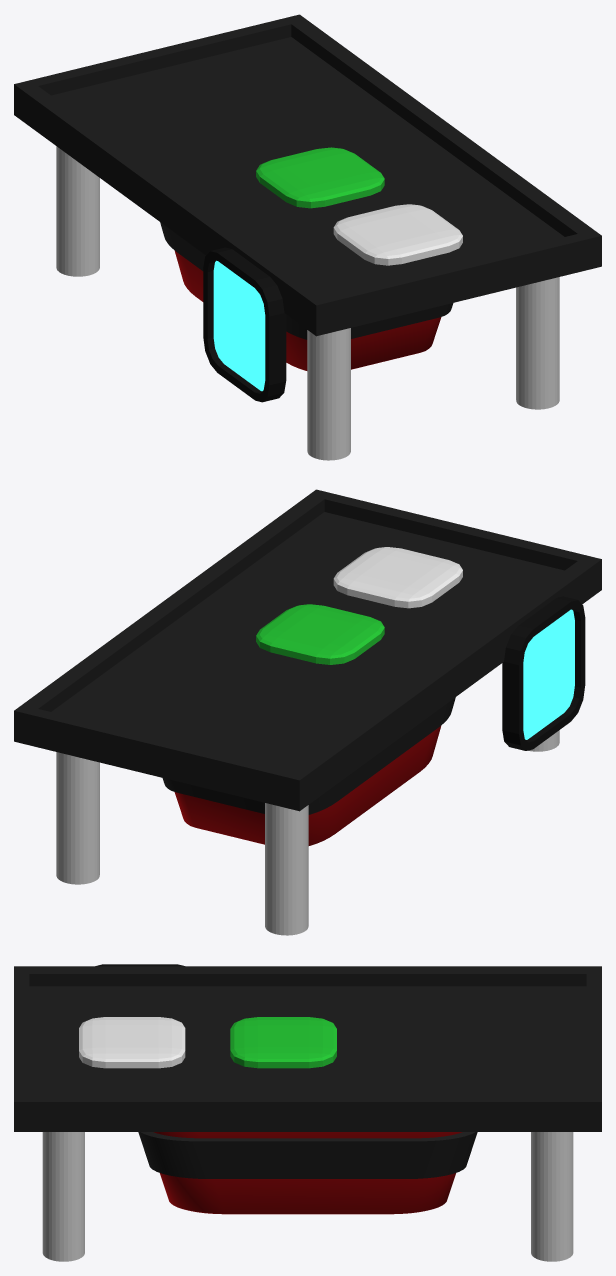
The model's file is CashierTable.fbx.
The picture shows the model from 3 angles, top to bottom: view 1: azimuth 30°, elevation 25°; view 2: azimuth 150°, elevation 25°; view 3: azimuth 270°, elevation 25°; orthographic projection. The views are drawn at different scales.
Visible parts, largest first — view 1: Cube.001, Cube.005, Cube.002, Cube.003, Cube.004; view 2: Cube.001, Cube.002, Cube.005, Cube.003, Cube.004; view 3: Cube.001, Cube.002, Cube.003, Cube.004.
Boxes of the visible parts, bbox=[...] form: Cube.001: bbox=[14, 14, 601, 460]; Cube.005: bbox=[203, 247, 286, 402]; Cube.002: bbox=[160, 222, 453, 370]; Cube.003: bbox=[333, 204, 462, 265]; Cube.004: bbox=[256, 147, 384, 208]; Cube.001: bbox=[14, 489, 601, 935]; Cube.002: bbox=[162, 697, 455, 845]; Cube.005: bbox=[502, 596, 585, 750]; Cube.003: bbox=[333, 547, 462, 608]; Cube.004: bbox=[256, 604, 384, 664]; Cube.001: bbox=[14, 966, 601, 1261]; Cube.002: bbox=[138, 1132, 477, 1214]; Cube.003: bbox=[79, 1017, 185, 1068]; Cube.004: bbox=[230, 1017, 336, 1068].
Size of the model in its own units: 3458 by 1912 by 6021.
